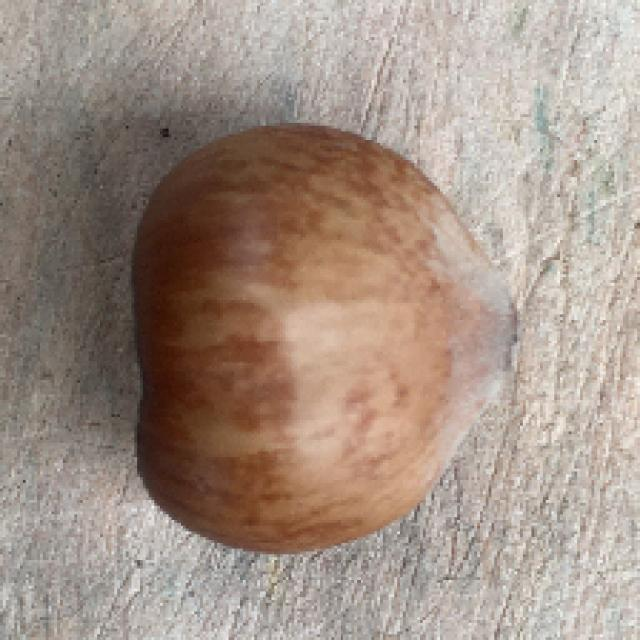QualityHazelnut: (136, 124, 517, 553)
